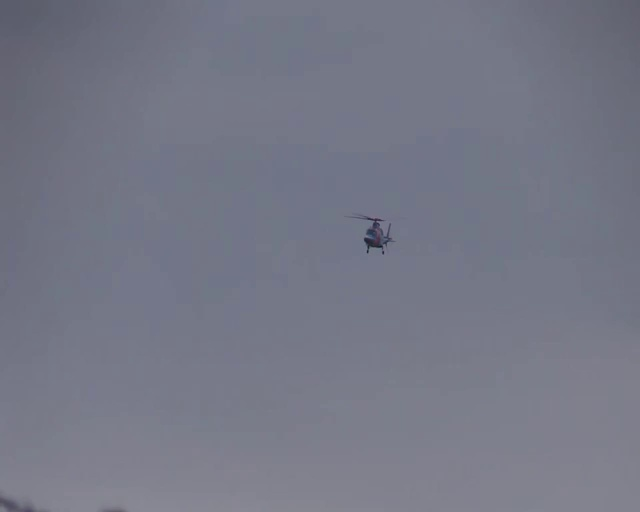HELICOPTER: (344, 212, 401, 255)
